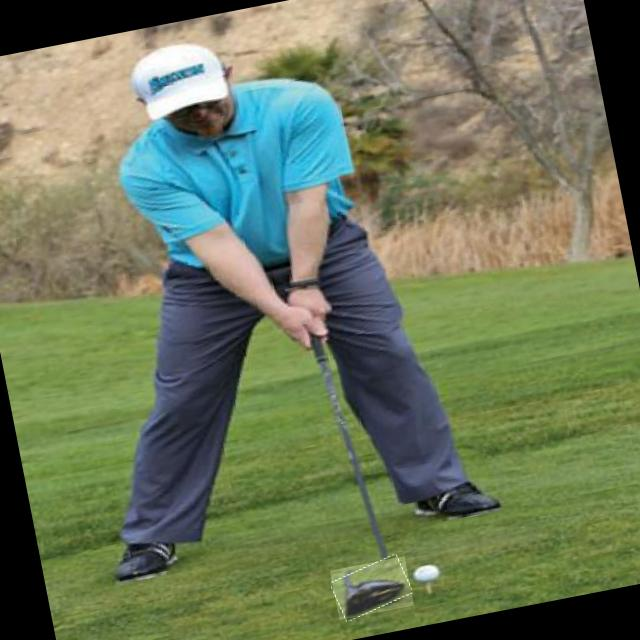club head: (330, 556, 414, 620)
